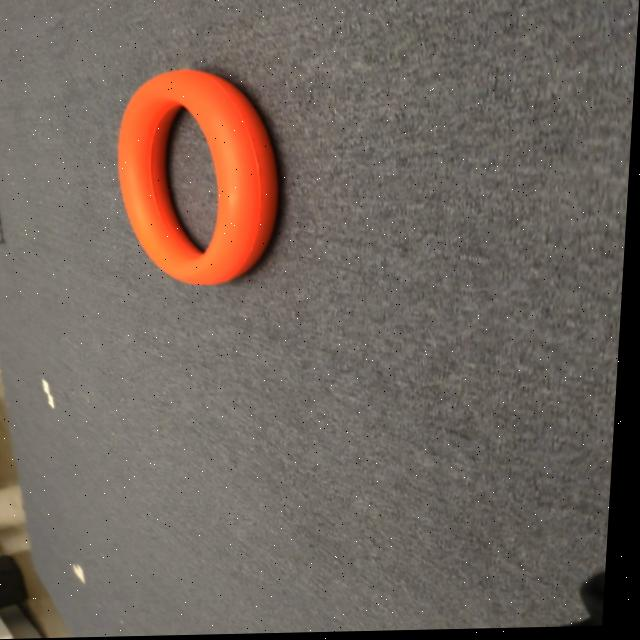note: (114, 67, 289, 285)
